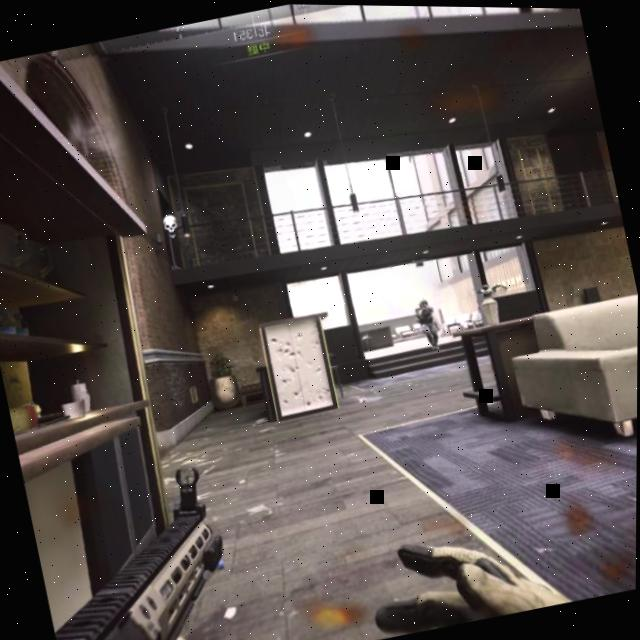MW2_body: (411, 296, 441, 351)
